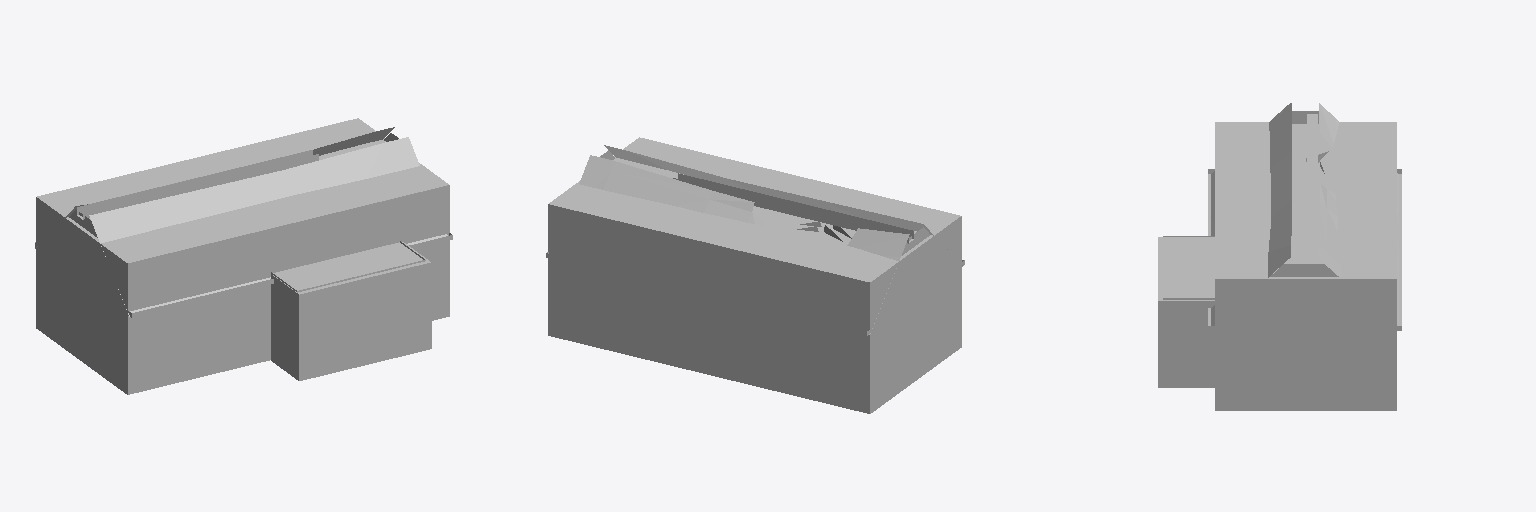
The model's file is Building2.obj.
3 renders of one model, left to right at view 1: azimuth 30°, elevation 25°; view 2: azimuth 150°, elevation 25°; view 3: azimuth 270°, elevation 25°, orthographic.
Parts seen in each view (by area): view 1: Building2_-col, Building2Modifier_-col, TCom_RooftilesCeramicOld0078_1_seamless_S, stairs, Building2_msh; view 2: Building2_-col, TCom_RooftilesCeramicOld0078_1_seamless_S, stairs, Building2_msh; view 3: Building2_-col, Building2Modifier_-col, TCom_RooftilesCeramicOld0078_1_seamless_S, stairs, TCom_BuildingsUtility0032_S, Building2_msh.
Boxes of the visible parts, <box> form: Building2_-col: <box>36,118,449,394</box>; Building2Modifier_-col: <box>271,242,431,380</box>; TCom_RooftilesCeramicOld0078_1_seamless_S: <box>35,127,447,316</box>; stairs: <box>77,150,318,219</box>; Building2_msh: <box>35,233,452,317</box>; Building2_-col: <box>548,137,961,413</box>; TCom_RooftilesCeramicOld0078_1_seamless_S: <box>579,145,962,334</box>; stairs: <box>673,173,913,243</box>; Building2_msh: <box>546,252,964,335</box>; Building2_-col: <box>1215,122,1396,410</box>; Building2Modifier_-col: <box>1158,237,1214,387</box>; TCom_RooftilesCeramicOld0078_1_seamless_S: <box>1211,103,1398,325</box>; stairs: <box>1307,114,1317,227</box>; TCom_BuildingsUtility0032_S: <box>1270,111,1338,276</box>; Building2_msh: <box>1208,169,1401,330</box>.
Bounding box in the file's own units: 12.29 × 5.57 × 8.07.